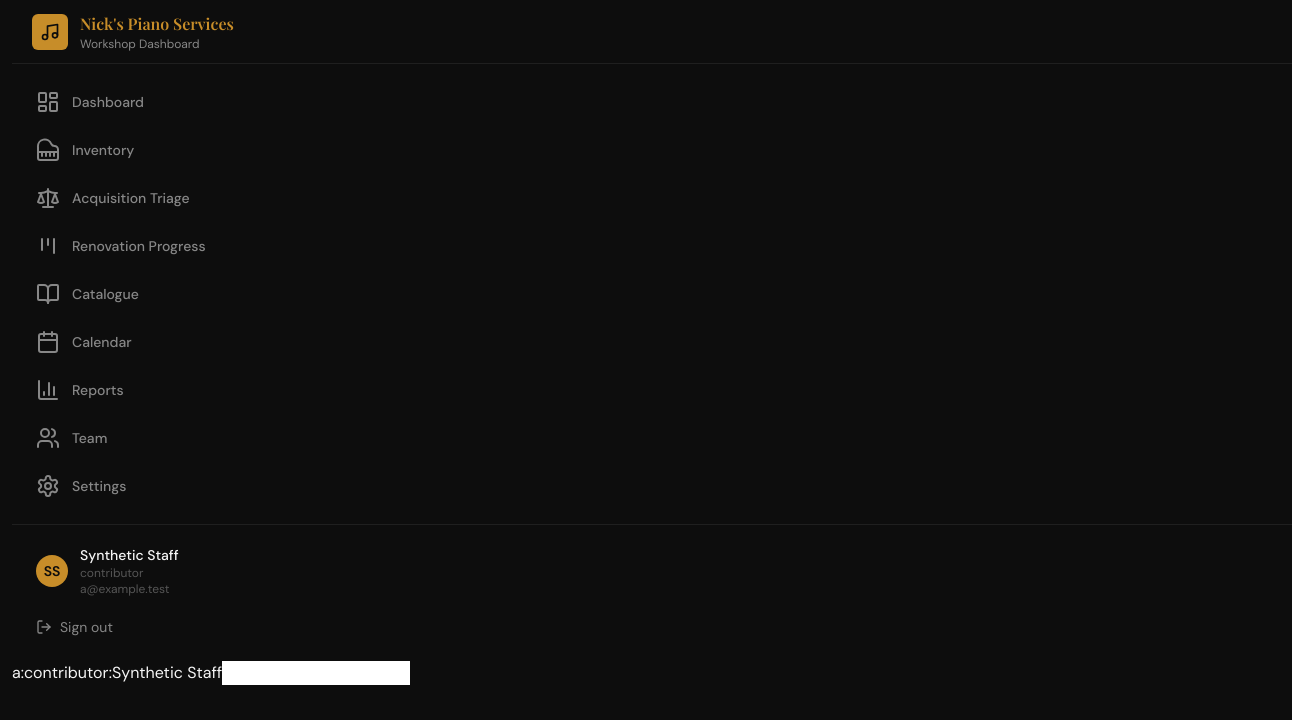
Test: the actual sidebar shows verified profile/email/role and its failed signout message survives navigation to actual login
Check: the field named "Unsaved staff note" is shown, box left=222, top=661, right=410, bottom=685
Check: the text "Synthetic Staff" is shown, box left=80, top=546, right=179, bottom=564
Step 1. Click the button "Sign out" → (74, 627), box left=24, top=605, right=125, bottom=649
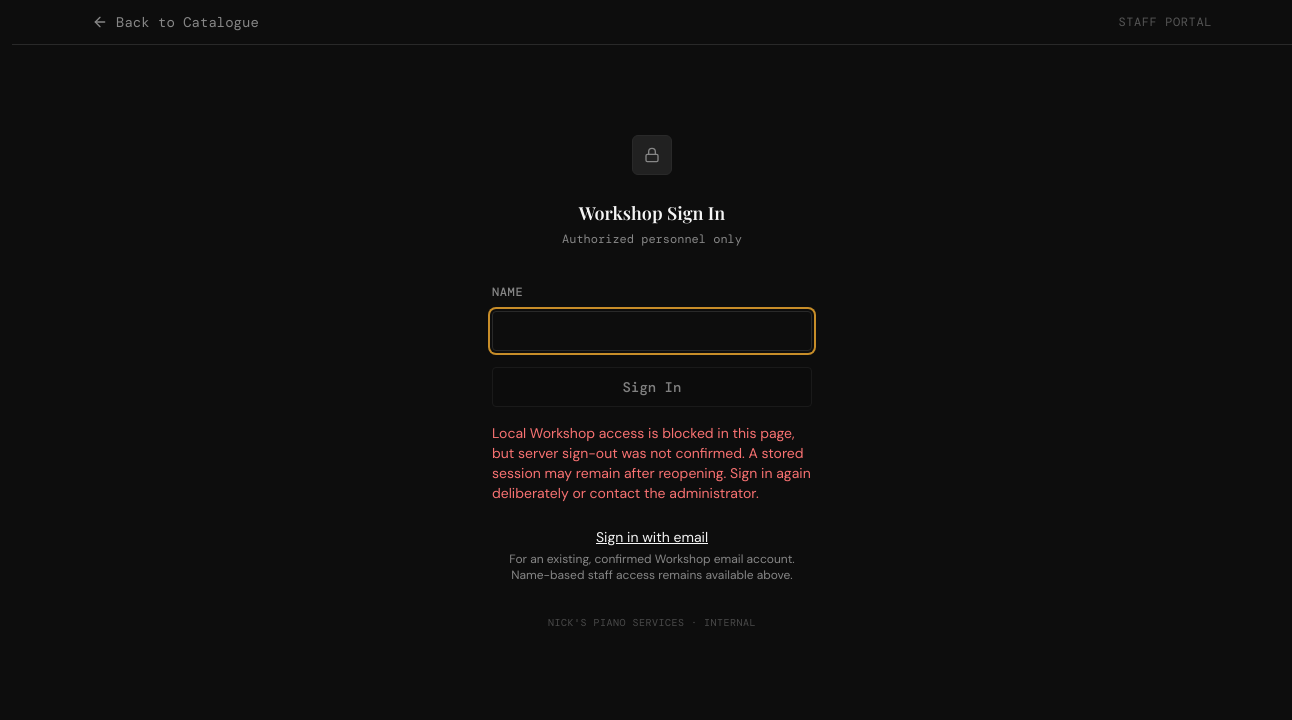
Check: the message does not show "PRIVATE_SERVER_DETAIL", box left=492, top=423, right=812, bottom=503
Check: the message shows "server sign-out was not confirmed", box left=492, top=424, right=811, bottom=502
